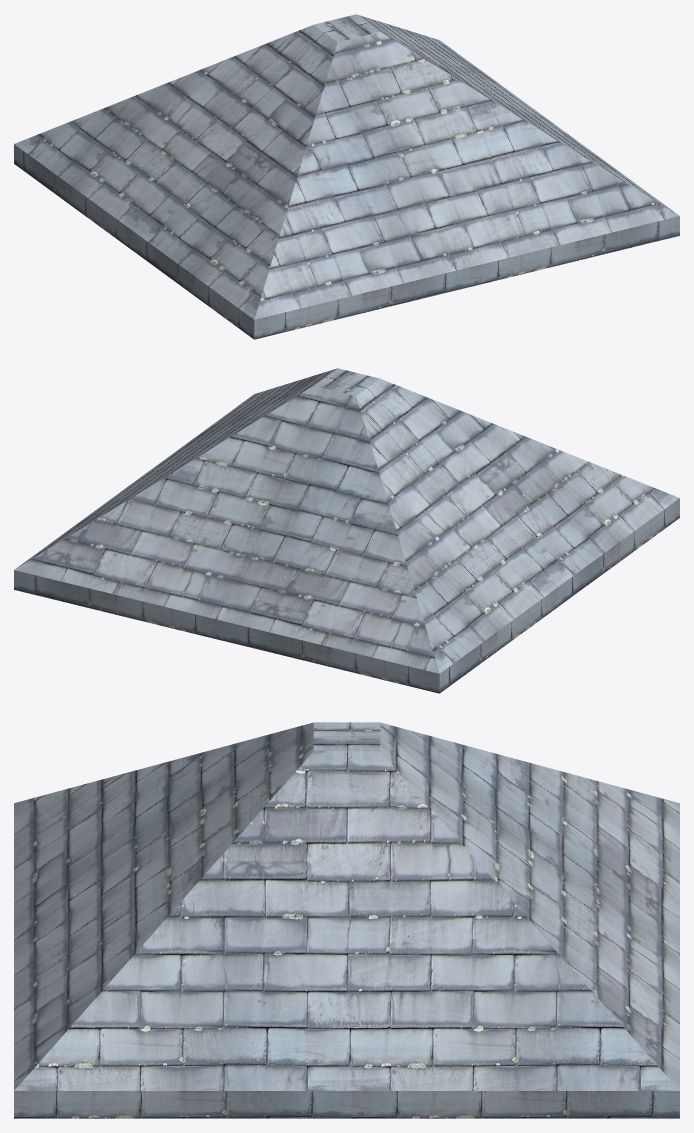
File: house_roof01.glb
3 renders of one model, top to bottom at view 1: azimuth 30°, elevation 25°; view 2: azimuth 150°, elevation 25°; view 3: azimuth 270°, elevation 25°, orthographic. The views are drawn at different scales.
Parts seen in each view (by area): view 1: Prop.house_roof01; view 2: Prop.house_roof01; view 3: Prop.house_roof01.
Part boxes in pixels (left/top/right/bottom): Prop.house_roof01: left=14, top=14, right=679, bottom=339; Prop.house_roof01: left=14, top=368, right=679, bottom=693; Prop.house_roof01: left=14, top=722, right=679, bottom=1118.
Bounding box in the file's own units: 6.75 × 2.6 × 6.6.
1 material, 1 textured.
